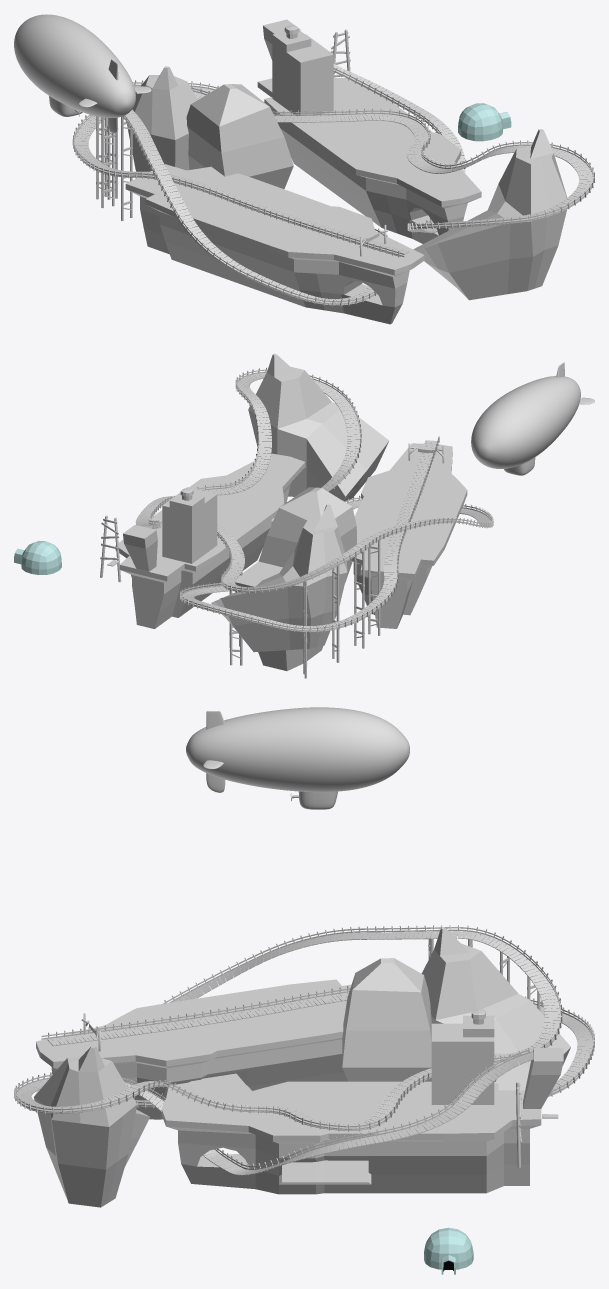
File: BlokingCircuito3_01.fbx
3 views of the same model, one above another, from view 1: azimuth 30°, elevation 25°; view 2: azimuth 150°, elevation 25°; view 3: azimuth 270°, elevation 25° (orthographic). The views are drawn at different scales.
Visible parts, largest first — view 1: Cylinder.007, Sphere, Iceberg_01_pocho, Cube.014; view 2: Cylinder.007, Sphere, Iceberg_01_pocho, Cube.014; view 3: Cylinder.007, Sphere, Iceberg_01_pocho, Cube.014.
Boxes of the visible parts, bbox=[...] form: Cylinder.007: bbox=[72, 19, 594, 324]; Sphere: bbox=[14, 14, 135, 117]; Iceberg_01_pocho: bbox=[186, 84, 293, 188]; Cube.014: bbox=[458, 103, 511, 141]; Cylinder.007: bbox=[107, 353, 493, 678]; Sphere: bbox=[471, 376, 580, 468]; Iceberg_01_pocho: bbox=[235, 487, 356, 670]; Cube.014: bbox=[14, 541, 61, 574]; Cylinder.007: bbox=[14, 925, 594, 1207]; Sphere: bbox=[186, 707, 409, 792]; Iceberg_01_pocho: bbox=[342, 958, 500, 1081]; Cube.014: bbox=[424, 1227, 473, 1274].
Bounding box in the file's own units: 33694 × 18503 × 28488.
